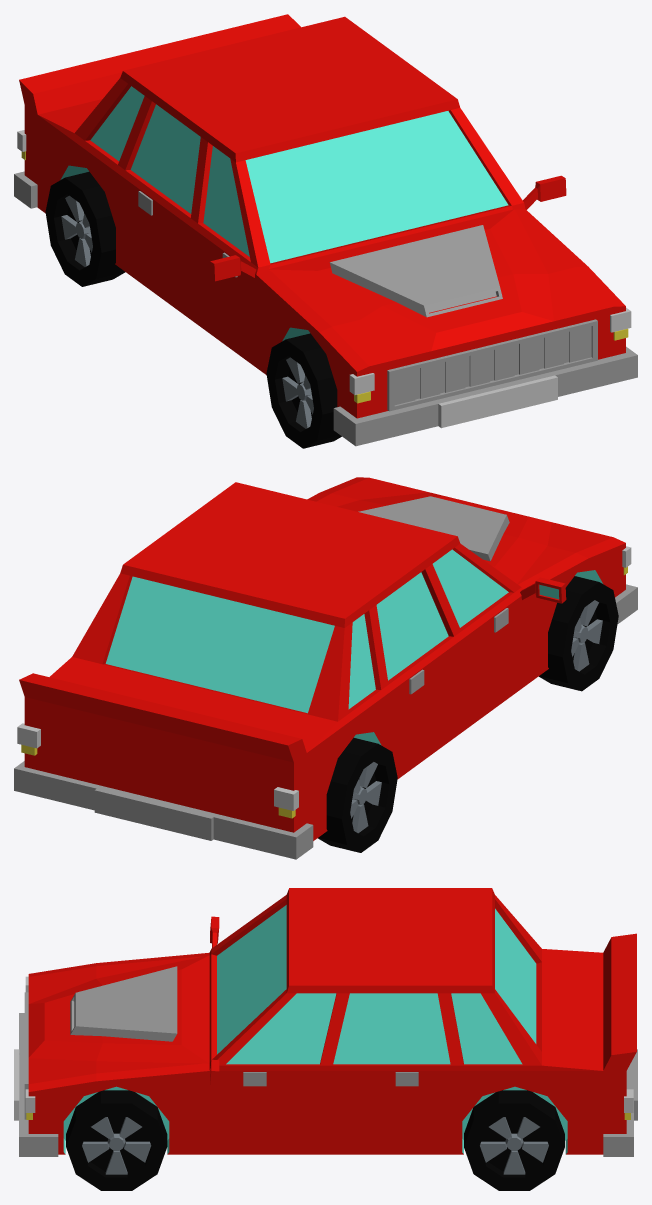
File: car4.fbx
3 views of the same model, one above another, from view 1: azimuth 30°, elevation 25°; view 2: azimuth 150°, elevation 25°; view 3: azimuth 270°, elevation 25° (orthographic). The views are drawn at different scales.
Parts seen in each view (by area): view 1: Cube.004, Cylinder.009, Cylinder.008; view 2: Cube.004, Cylinder.009, Cylinder.008; view 3: Cube.004, Cylinder.008, Cylinder.009.
Part boxes in pixels (<box>): Cube.004: <box>14,14,637,446</box>; Cylinder.009: <box>45,171,125,286</box>; Cylinder.008: <box>266,333,341,448</box>; Cube.004: <box>14,477,637,859</box>; Cylinder.009: <box>318,737,397,852</box>; Cylinder.008: <box>539,576,618,691</box>; Cube.004: <box>14,888,637,1156</box>; Cylinder.008: <box>66,1090,167,1190</box>; Cylinder.009: <box>464,1090,564,1190</box>.
Size of the model in its own units: 1.89 by 3.23 by 1.08.
